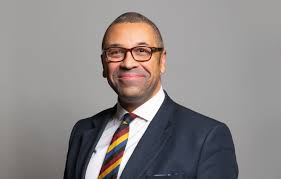middle_eastern_male: (104, 23, 163, 93)
